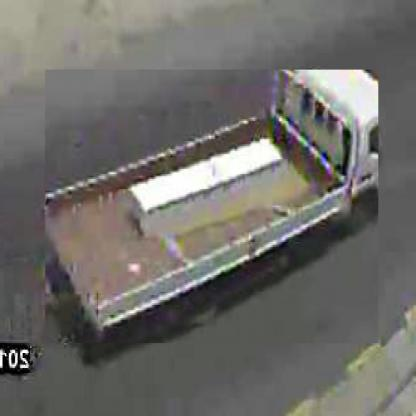truck: (45, 71, 379, 346)
